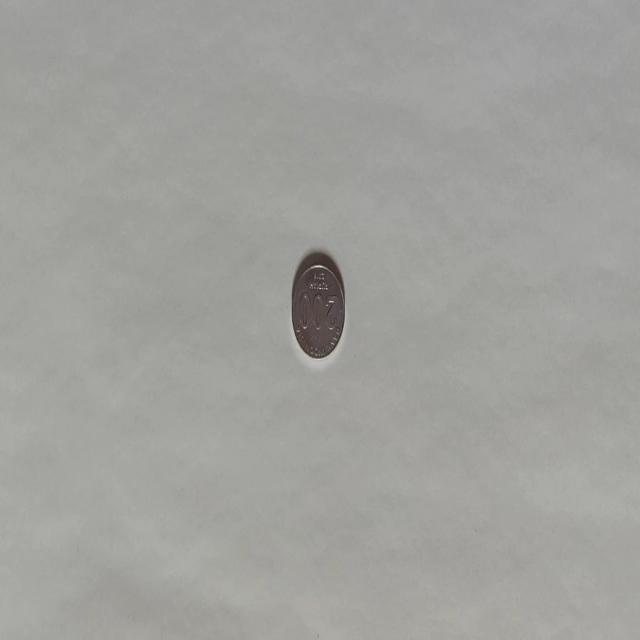dua ratus rupiah: (290, 257, 346, 360)
